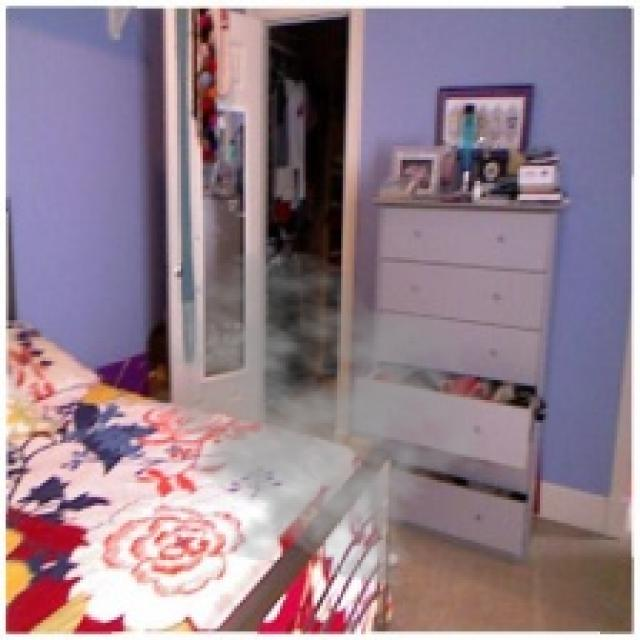smoke: (128, 246, 506, 588)
